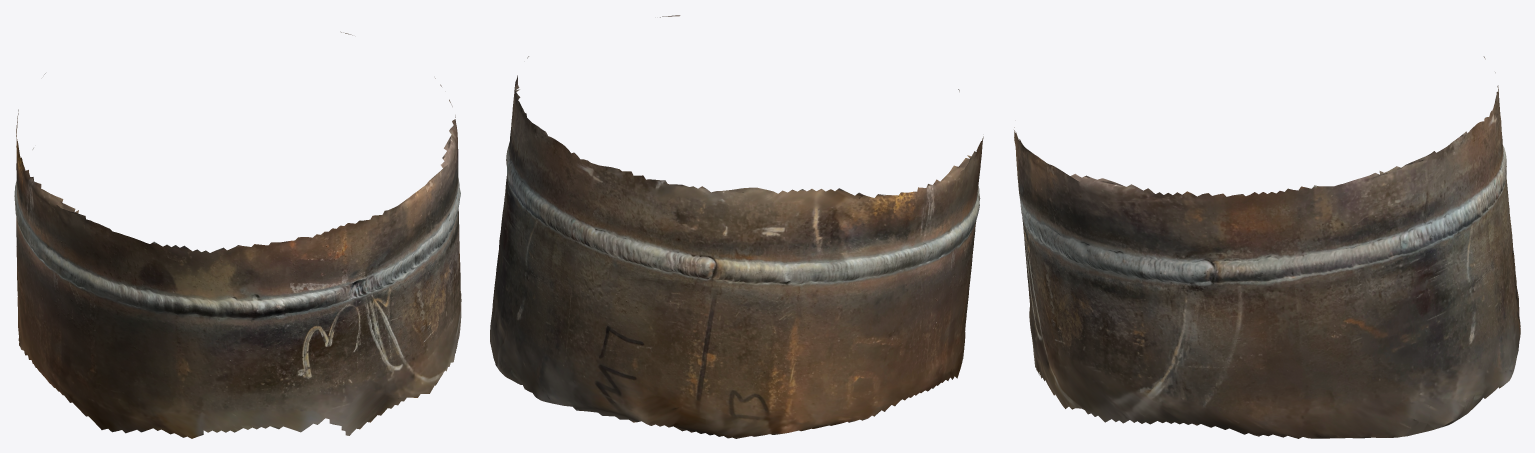
The picture shows the model from 3 angles, left to right: view 1: azimuth 30°, elevation 25°; view 2: azimuth 150°, elevation 25°; view 3: azimuth 270°, elevation 25°; orthographic projection. The views are drawn at different scales.
Visible parts, largest first — view 1: Object_4; view 2: Object_4; view 3: Object_4.
Boxes of the visible parts, <box> form: Object_4: <box>14,31,461,438</box>; Object_4: <box>490,15,983,438</box>; Object_4: <box>1014,56,1520,438</box>.
Size of the model in its own units: 2.03 by 1.28 by 2.06.
Materials: 1 (1 with a texture image).
